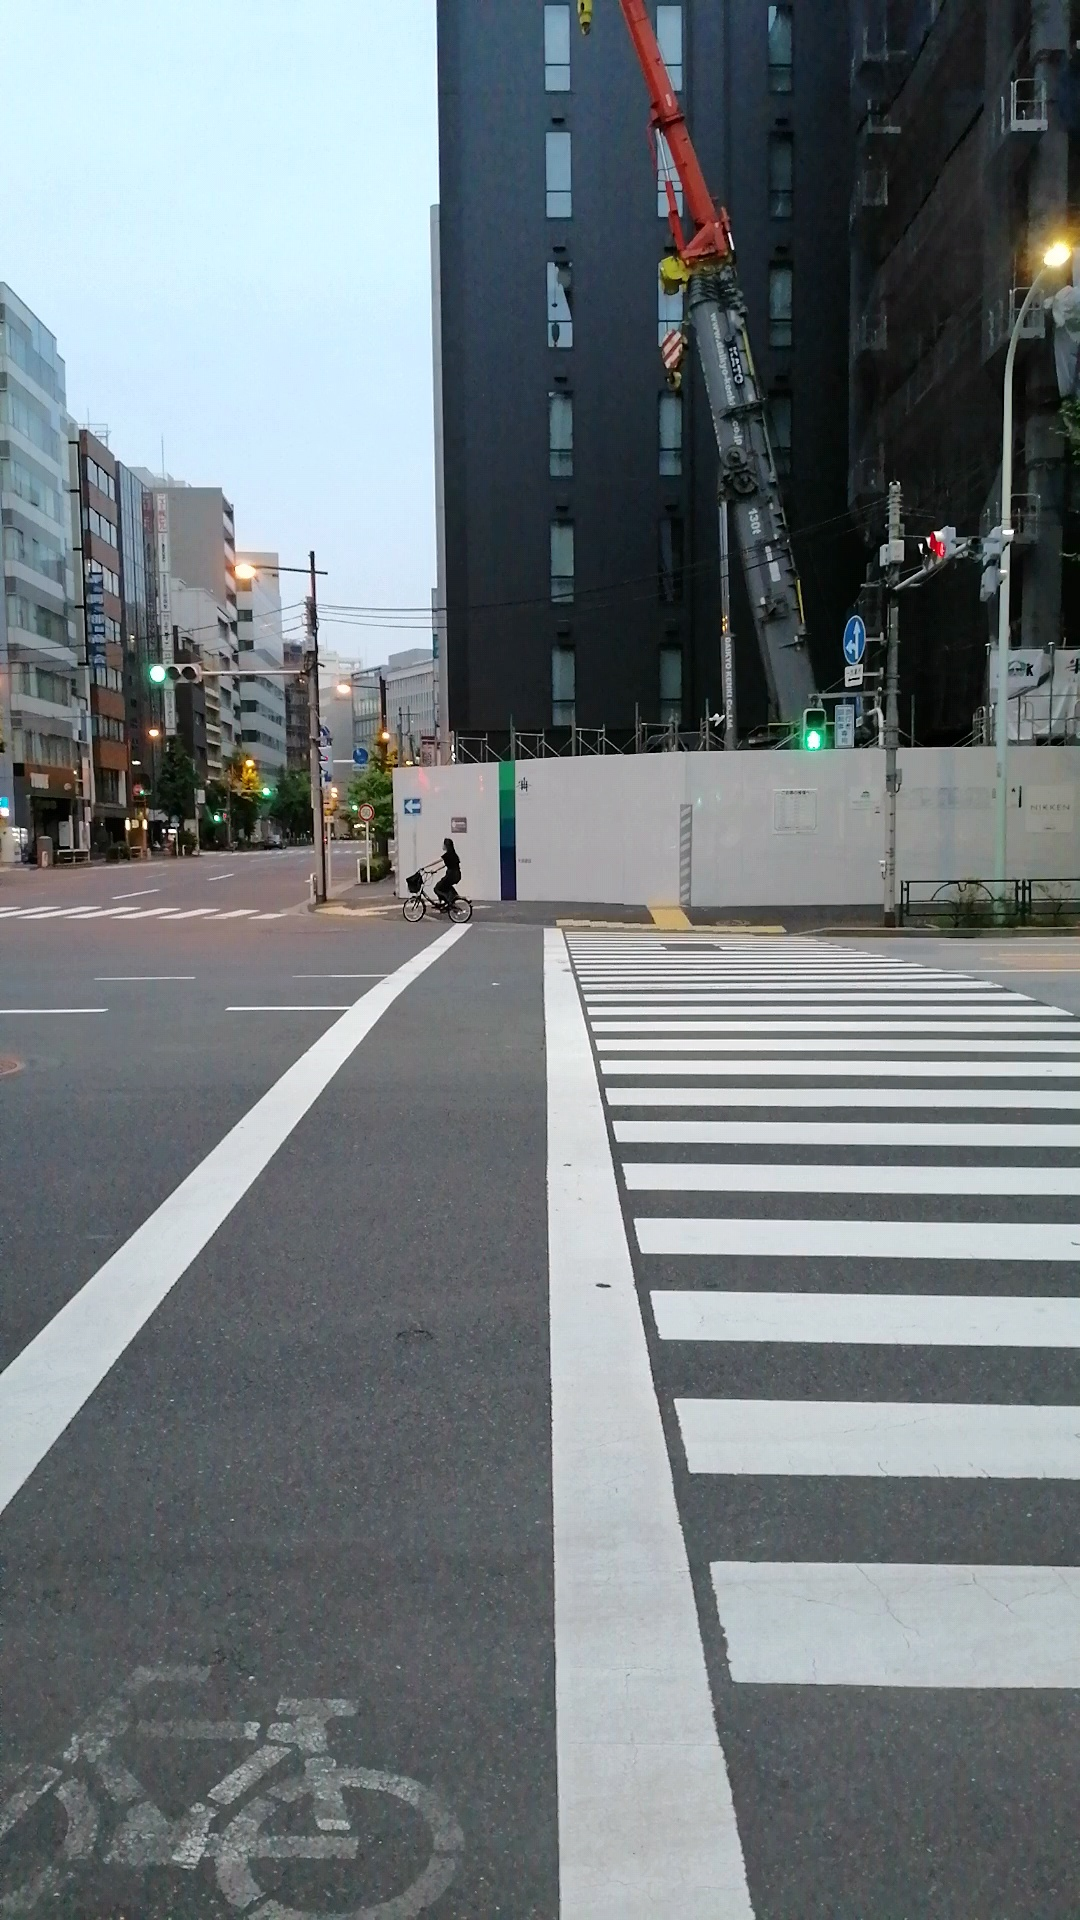green: (800, 705, 827, 752)
